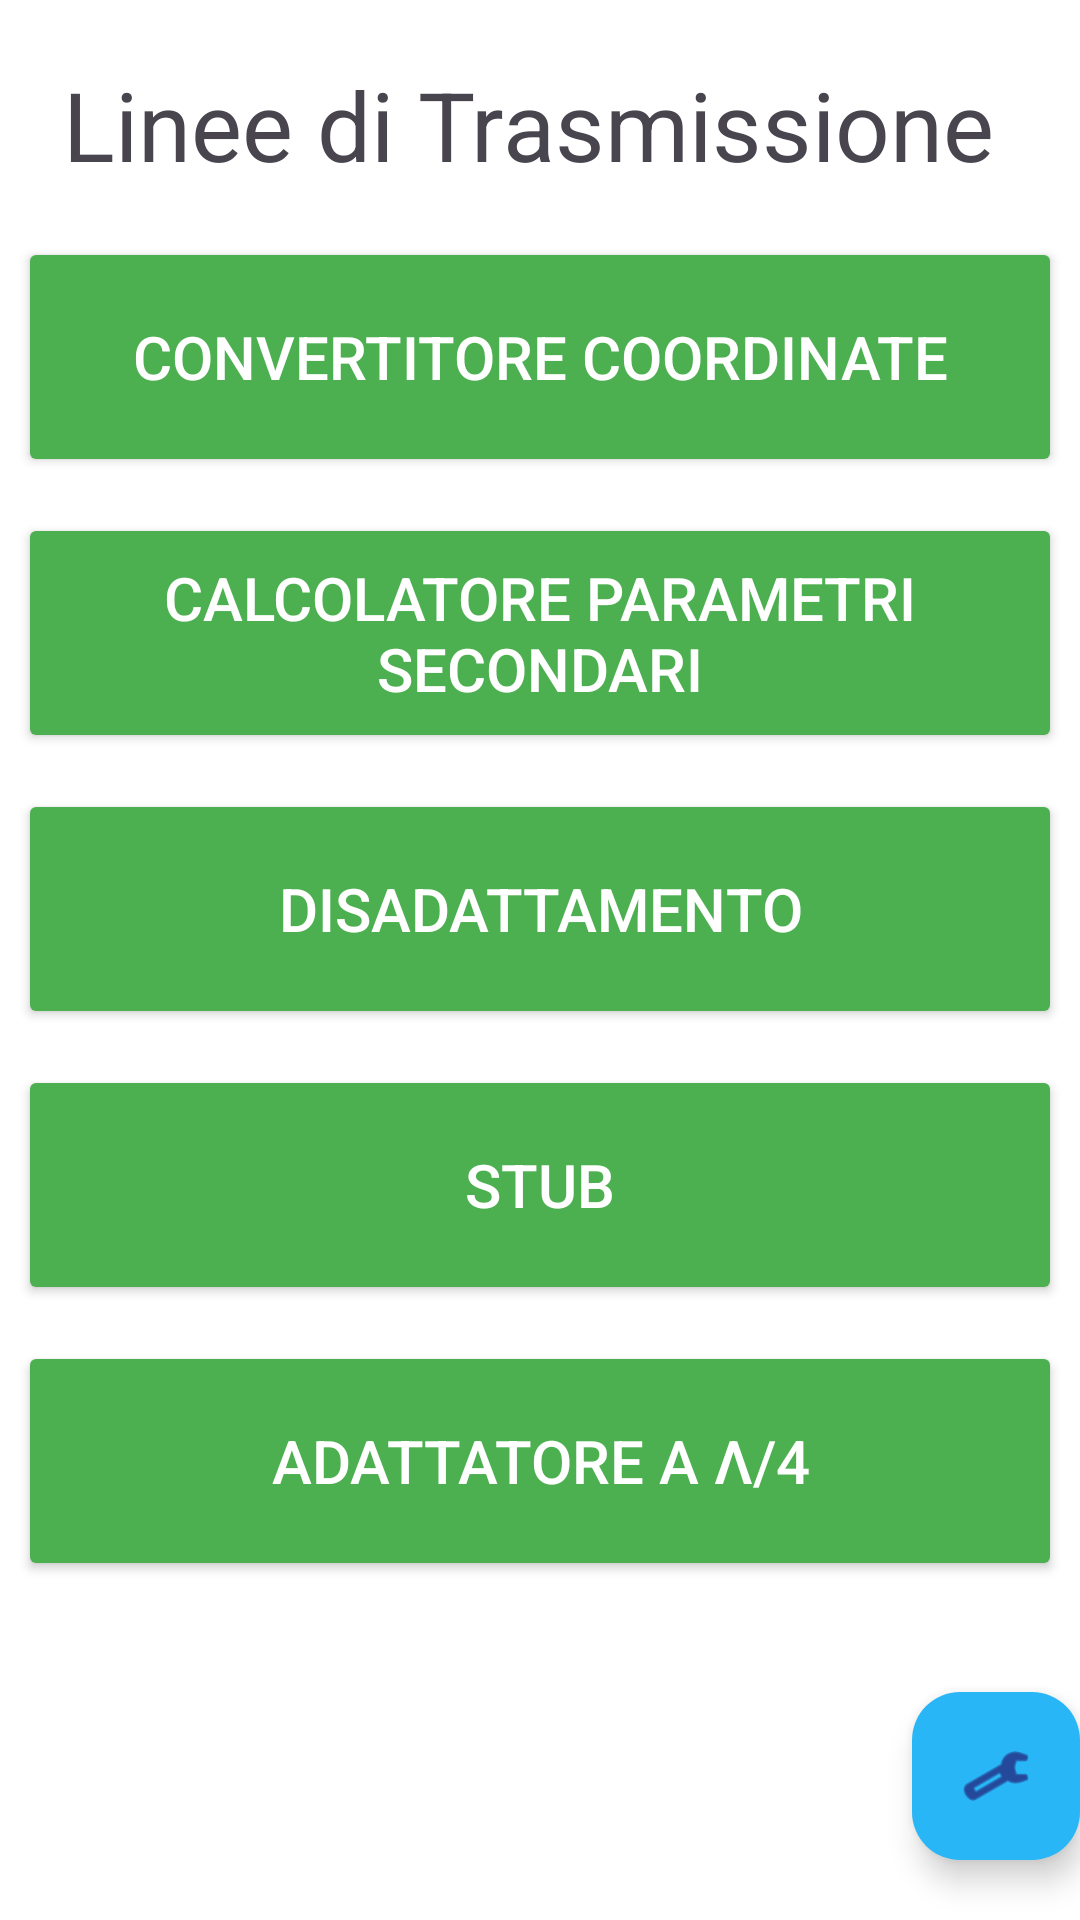

Where to tap for icons on this 1080x1920 app screen, as (x=x, y=y):
Impostazioni: (x=996, y=1776)
